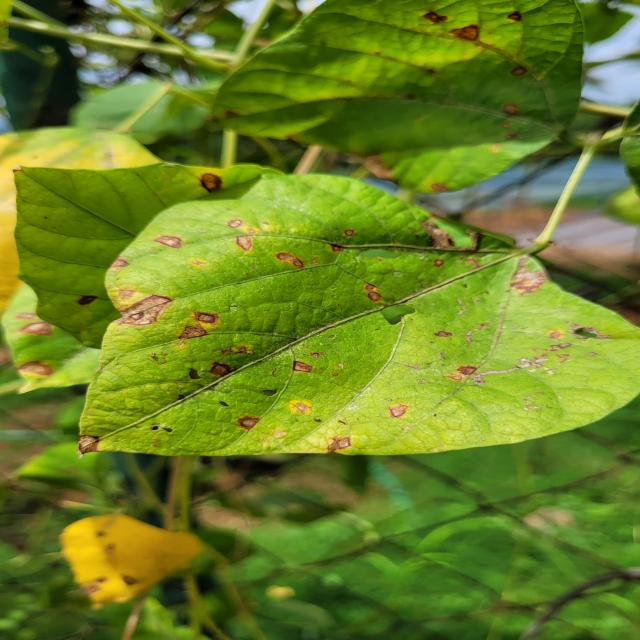Dolicos bean_cercospora leaf spot: (68, 170, 640, 453), (203, 0, 596, 187)
